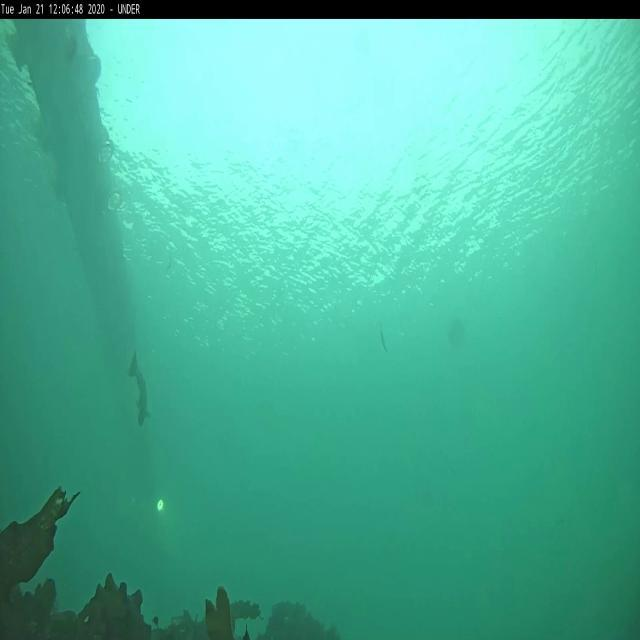fish: (127, 354, 150, 424), (378, 318, 388, 354)
